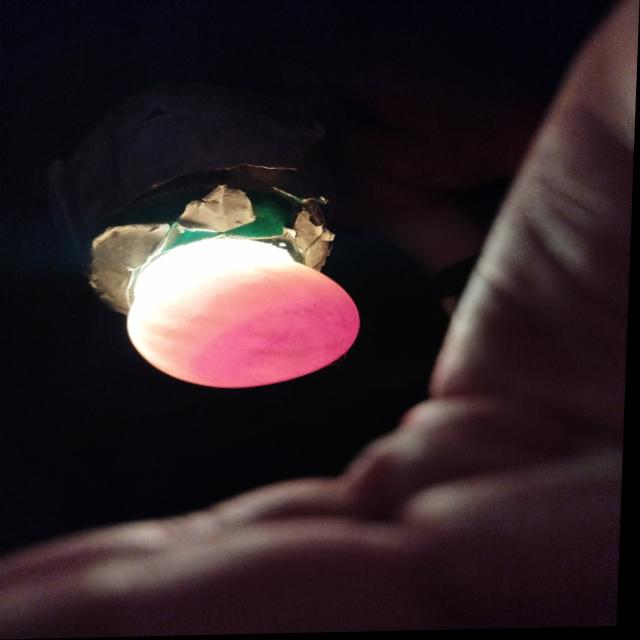Gema Quebrada: (193, 296, 362, 390)
